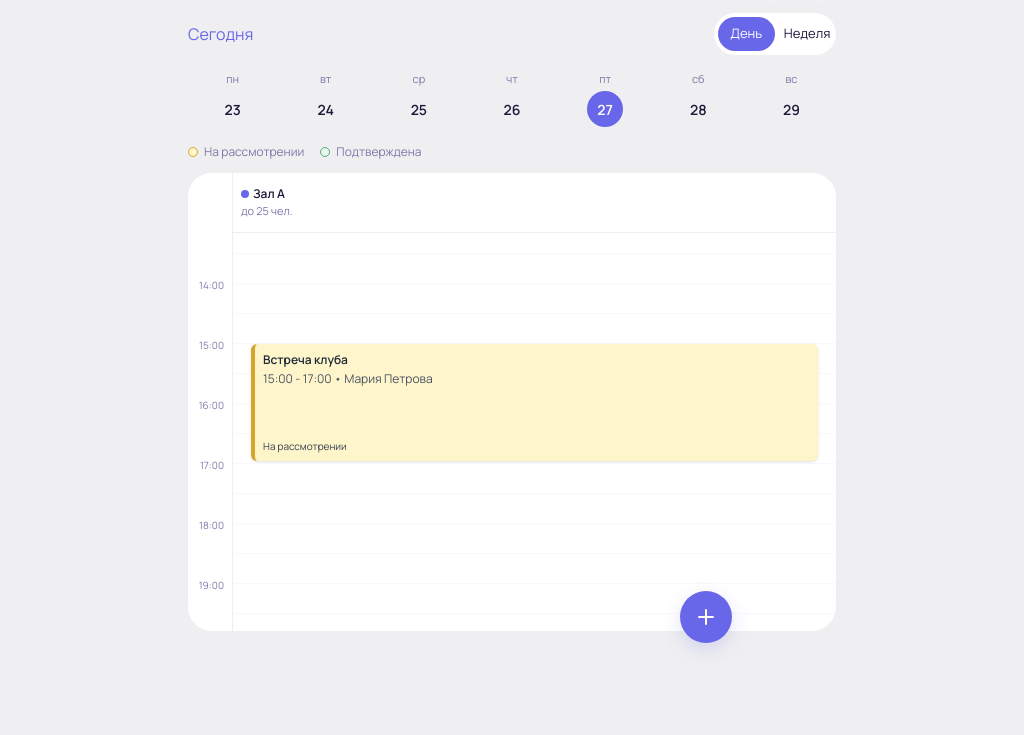
shows only available schedule data for another applicant’s pending booking
(page scrolled)
What coordinates should you click on to do the following:
click the button named "Открыть заявку «Встреча клуба»"
I would click on:
 (534, 402)
Its box is [251,344,818,460].
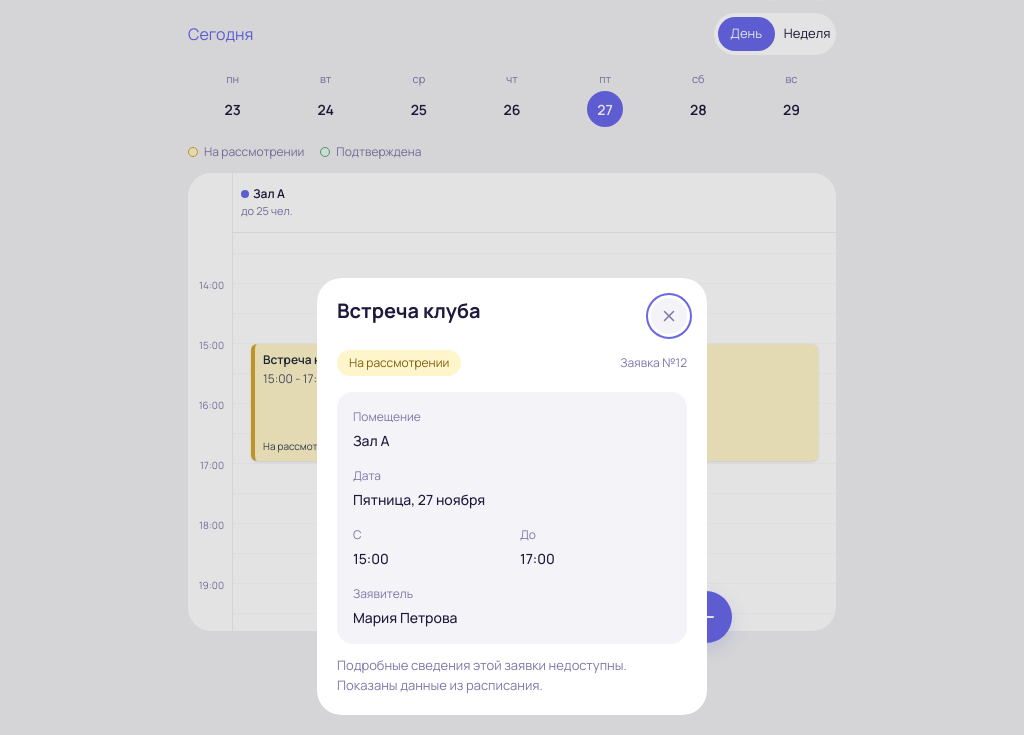
Now the text "Подробные сведения этой заявки недоступны" is shown, box [337,656,627,694]
Now the text "Мария Петрова" is shown, box [353,608,457,627]
